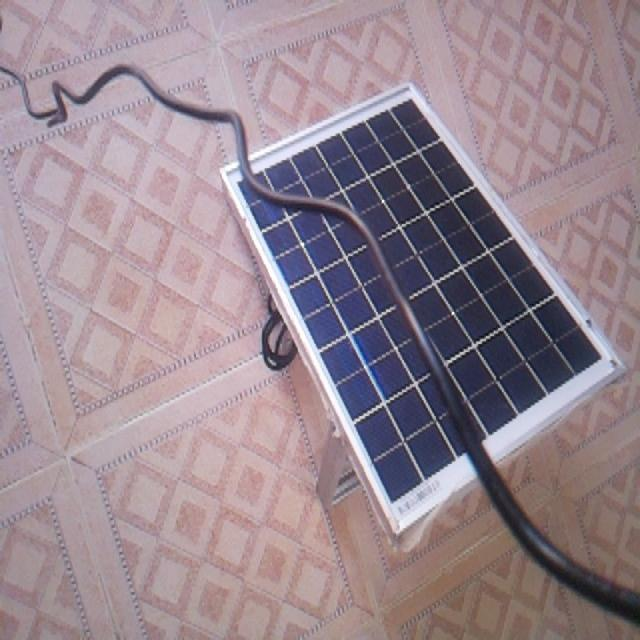Normal Solar Panel: (223, 83, 623, 535)
